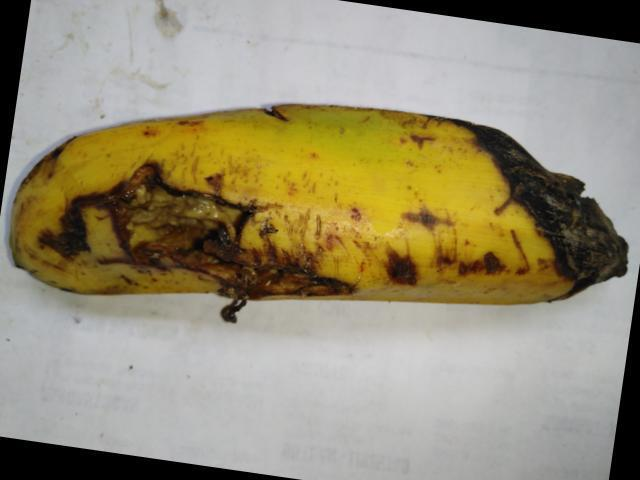rotten: (17, 150, 358, 338), (457, 87, 639, 346)
